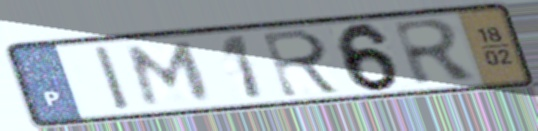1: (216, 32, 266, 103)
6: (334, 20, 407, 94)
I: (89, 43, 136, 114)
M: (124, 40, 215, 109)
R: (388, 16, 483, 89), (258, 27, 347, 100)
